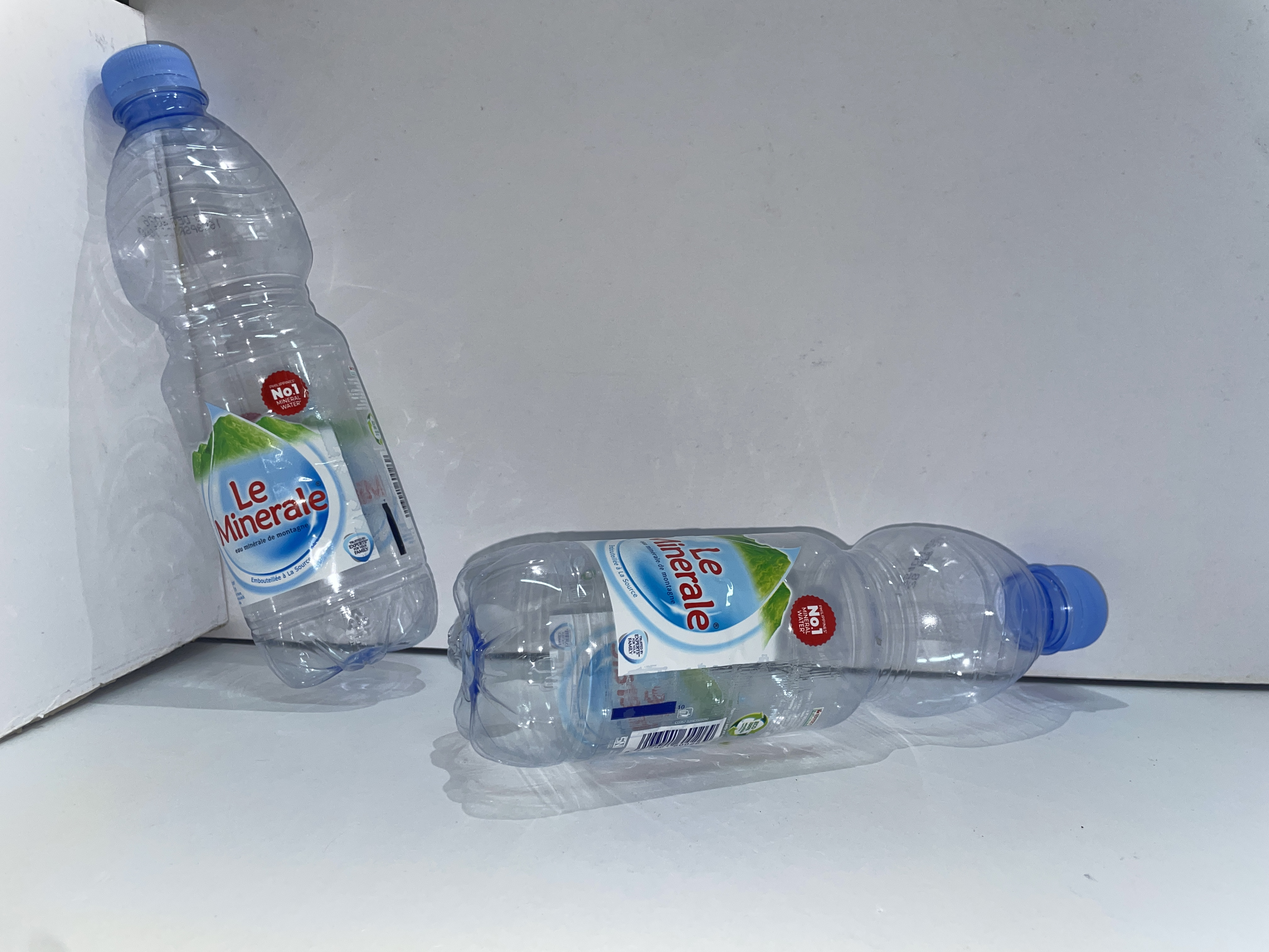Le Minerale 600ml: (102, 43, 436, 687), (450, 526, 1107, 765)
